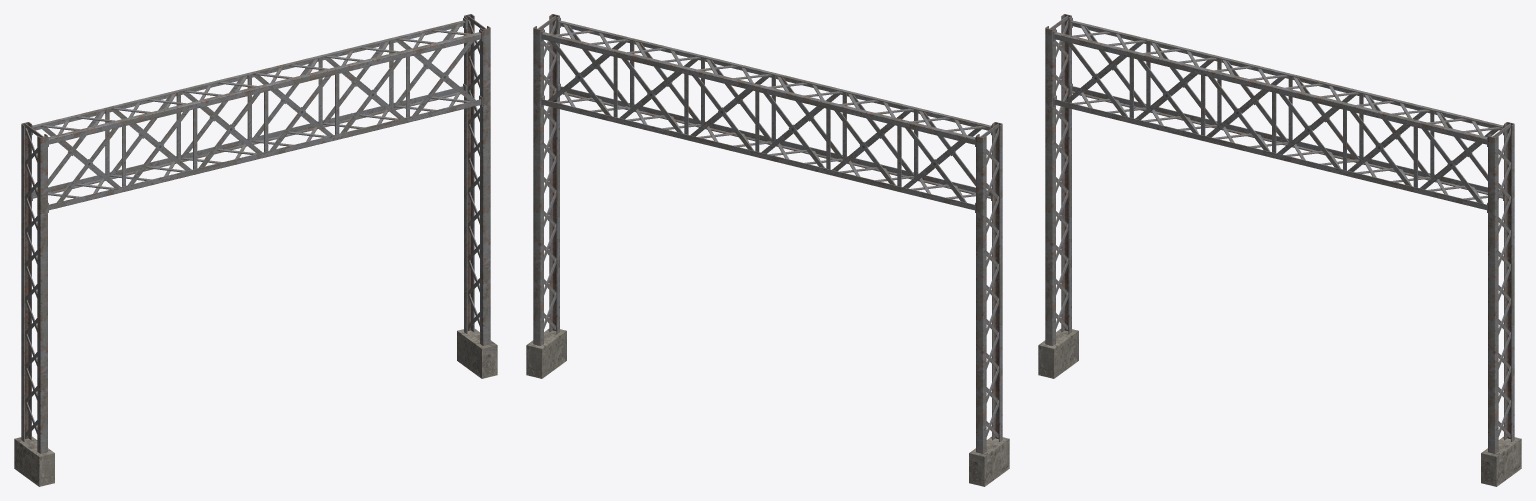
Rendered from Street_el1A.fbx.
3 renders of one model, left to right at view 1: azimuth 30°, elevation 25°; view 2: azimuth 150°, elevation 25°; view 3: azimuth 330°, elevation 25°, orthographic.
Visible parts, largest first — view 1: polySurface138; view 2: polySurface138; view 3: polySurface138.
Boxes of the visible parts, left/top/right/bottom form: polySurface138: left=14, top=14, right=497, bottom=486; polySurface138: left=526, top=14, right=1009, bottom=486; polySurface138: left=1038, top=14, right=1521, bottom=486.
Size of the model in its own units: 16.57 by 11.95 by 1.56.
